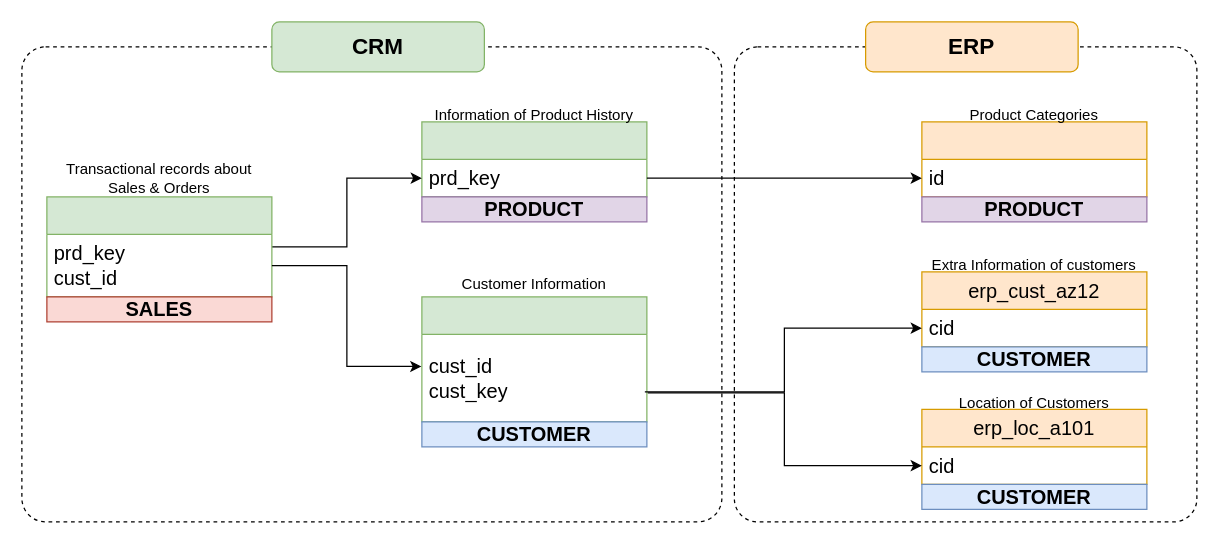
This 1219x544 diagram has some shape labels left out. Each missing label, with the box of its shape:
crm_cus_info: (421, 296, 647, 422)
crm_pdr_info: (421, 121, 647, 197)
crm_sales_details: (46, 196, 272, 297)
erp_px_cat_g1v2: (921, 121, 1147, 197)
